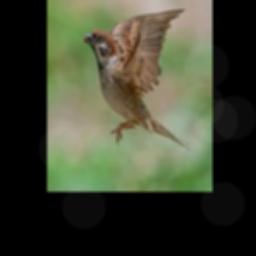Sparrow: (80, 8, 191, 149)
